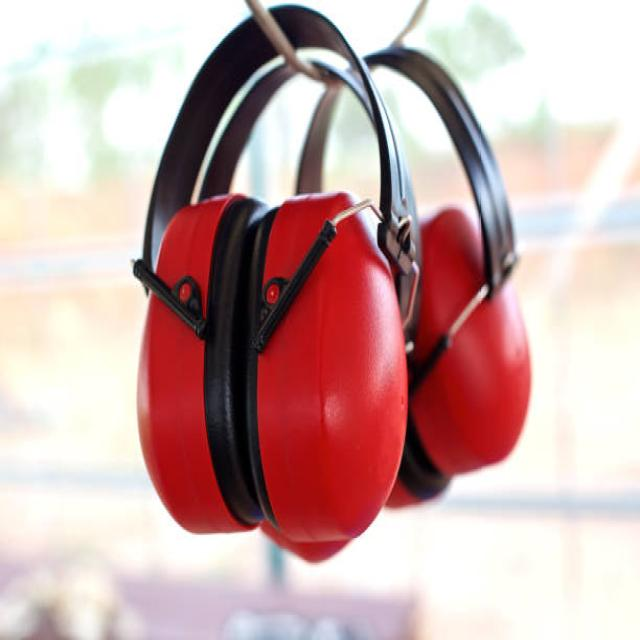Ear-protection: (117, 9, 422, 584), (310, 43, 554, 553)
